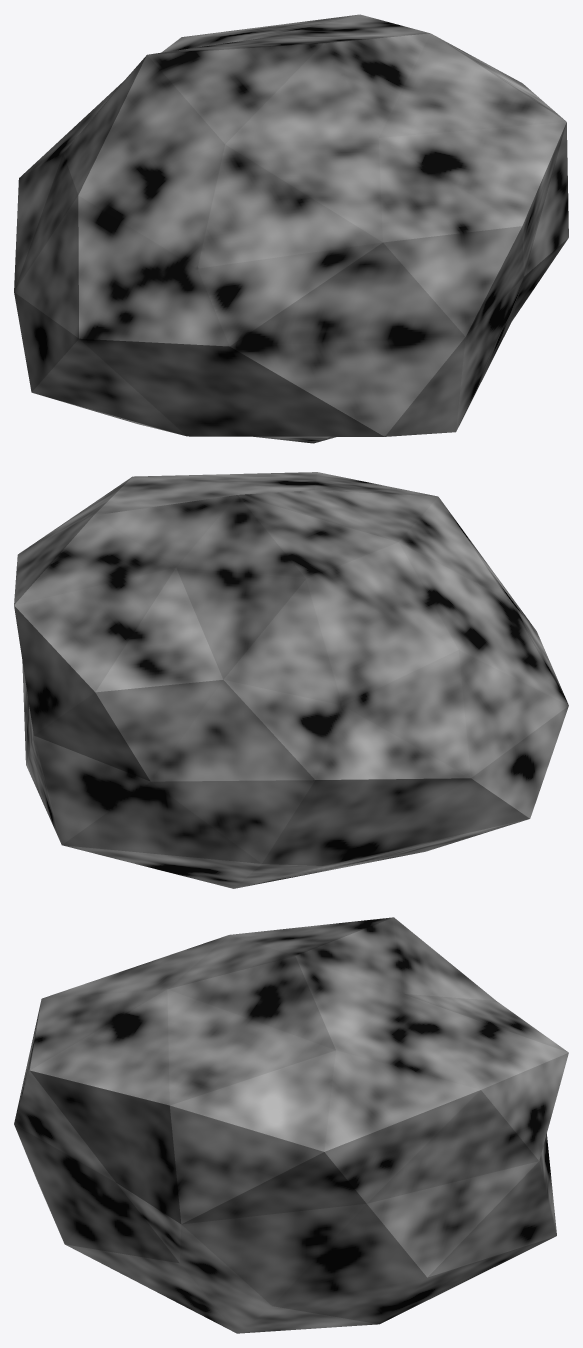
Rendered from stone.glb.
3 views of the same model, one above another, from view 1: azimuth 30°, elevation 25°; view 2: azimuth 150°, elevation 25°; view 3: azimuth 270°, elevation 25° (orthographic). The views are drawn at different scales.
Parts seen in each view (by area): view 1: stone; view 2: stone; view 3: stone.
Boxes of the visible parts, <box> form: stone: <box>14,14,568,443</box>; stone: <box>14,472,568,888</box>; stone: <box>14,917,568,1333</box>.
Bounding box in the file's own units: 0.4044 × 0.2878 × 0.4021.
1 material, 1 textured.
